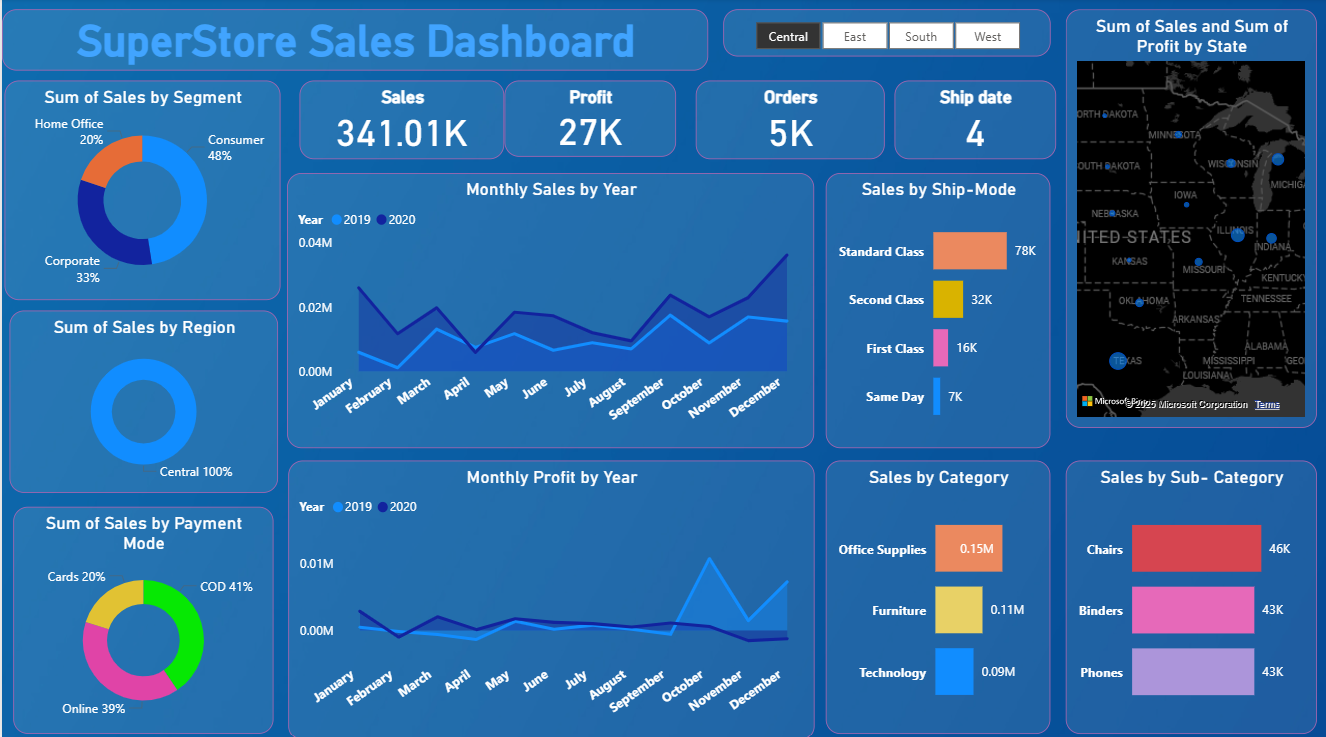

What the dashboard file says about the page in this screenshot:
{"tool":"powerbi","page":{"name":"Sales Dashboard","canvas":[1280,720],"ordinal":0},"visuals":[{"type":"clusteredBarChart","title":"Sales by Category","fields":{"Category":["SuperStore_Sales_Dataset.Category"],"Y":["Sum(SuperStore_Sales_Dataset.Sales)"]},"box":[795,446.4,217.2,264.2],"z":0},{"type":"clusteredBarChart","title":"Sales by Sub- Category","fields":{"Y":["Sum(SuperStore_Sales_Dataset.Sales)"],"Category":["SuperStore_Sales_Dataset.Sub-Category"]},"box":[1026.7,446.4,242.5,264.2],"z":1000},{"type":"clusteredBarChart","title":"Sales by Ship-Mode","fields":{"Y":["Sum(SuperStore_Sales_Dataset.Sales)"],"Category":["SuperStore_Sales_Dataset.Ship Mode"]},"box":[795,168.9,217.2,265.4],"z":2000},{"type":"areaChart","title":"Monthly Sales by Year","fields":{"Category":["SuperStore_Sales_Dataset.Order Date.Variation.Date Hierarchy.Month","SuperStore_Sales_Dataset.Order Date.Variation.Date Hierarchy.Day"],"Y":["Sum(SuperStore_Sales_Dataset.Sales)"],"Series":["SuperStore_Sales_Dataset.Order Date.Variation.Date Hierarchy.Year"]},"box":[275.1,168.9,509.1,265.4],"z":3000},{"type":"areaChart","title":"Monthly Profit by Year","fields":{"Category":["SuperStore_Sales_Dataset.Order Date.Variation.Date Hierarchy.Month","SuperStore_Sales_Dataset.Order Date.Variation.Date Hierarchy.Day"],"Series":["SuperStore_Sales_Dataset.Order Date.Variation.Date Hierarchy.Year"],"Y":["Sum(SuperStore_Sales_Dataset.Profit)"]},"box":[276.3,446.4,507.9,270.2],"z":4000},{"type":"donutChart","fields":{"Category":["SuperStore_Sales_Dataset.Segment"],"Y":["Sum(SuperStore_Sales_Dataset.Sales)"]},"box":[2.4,79.6,266.6,212.3],"z":5000},{"type":"donutChart","fields":{"Y":["Sum(SuperStore_Sales_Dataset.Sales)"],"Category":["SuperStore_Sales_Dataset.Region"]},"box":[7.2,301.6,259.4,176.1],"z":6000},{"type":"donutChart","fields":{"Y":["Sum(SuperStore_Sales_Dataset.Sales)"],"Category":["SuperStore_Sales_Dataset.Payment Mode"]},"box":[10.9,491,250.9,219.6],"z":7000},{"type":"slicer","fields":{"Values":["SuperStore_Sales_Dataset.Region"]},"box":[696.1,10.9,316.1,45.8],"z":8000},{"type":"card","title":"Sales","fields":{"Values":["Sum(SuperStore_Sales_Dataset.Sales)"]},"box":[287.1,79.6,197.9,76],"z":9000},{"type":"card","title":"Orders","fields":{"Values":["Sum(SuperStore_Sales_Dataset.Quantity)"]},"box":[669.6,79.6,182.2,76],"z":10000},{"type":"card","title":"Profit","fields":{"Values":["Sum(SuperStore_Sales_Dataset.Profit)"]},"box":[485,79.6,165.3,73.6],"z":11000},{"type":"textbox","title":"SuperStore Sales Dashboard","box":[0,10.9,681.6,59.1],"z":12000},{"type":"map","title":"Sum of Sales and Sum of Profit by State","fields":{"Category":["SuperStore_Sales_Dataset.State"],"Size":["Sum(SuperStore_Sales_Dataset.Sales)"]},"box":[1026.7,10.9,242.5,404.2],"z":13000},{"type":"card","title":"Ship date","fields":{"Values":["Avg(SuperStore_Sales_Dataset.AveDelivery)"]},"box":[861.4,79.6,155.6,76],"z":14000}]}

Visuals, with their boxes in screenshot pixels (x1, y1, x2, y2), scaled from the page's 1280x720 canvas onto the 1326x737 screenshot:
"Sales by Category" clusteredBarChart: Rect(824, 457, 1049, 727)
"Sales by Sub- Category" clusteredBarChart: Rect(1064, 457, 1315, 727)
"Sales by Ship-Mode" clusteredBarChart: Rect(824, 173, 1049, 445)
"Monthly Sales by Year" areaChart: Rect(285, 173, 812, 445)
"Monthly Profit by Year" areaChart: Rect(286, 457, 812, 734)
donutChart - SuperStore_Sales_Dataset.Segment x Sum(SuperStore_Sales_Dataset.Sales): Rect(2, 81, 279, 299)
donutChart - Sum(SuperStore_Sales_Dataset.Sales) x SuperStore_Sales_Dataset.Region: Rect(7, 309, 276, 489)
donutChart - Sum(SuperStore_Sales_Dataset.Sales) x SuperStore_Sales_Dataset.Payment Mode: Rect(11, 503, 271, 727)
slicer - SuperStore_Sales_Dataset.Region: Rect(721, 11, 1049, 58)
"Sales" card: Rect(297, 81, 502, 159)
"Orders" card: Rect(694, 81, 882, 159)
"Profit" card: Rect(502, 81, 674, 157)
"SuperStore Sales Dashboard" textbox: Rect(0, 11, 706, 72)
"Sum of Sales and Sum of Profit by State" map: Rect(1064, 11, 1315, 425)
"Ship date" card: Rect(892, 81, 1054, 159)
